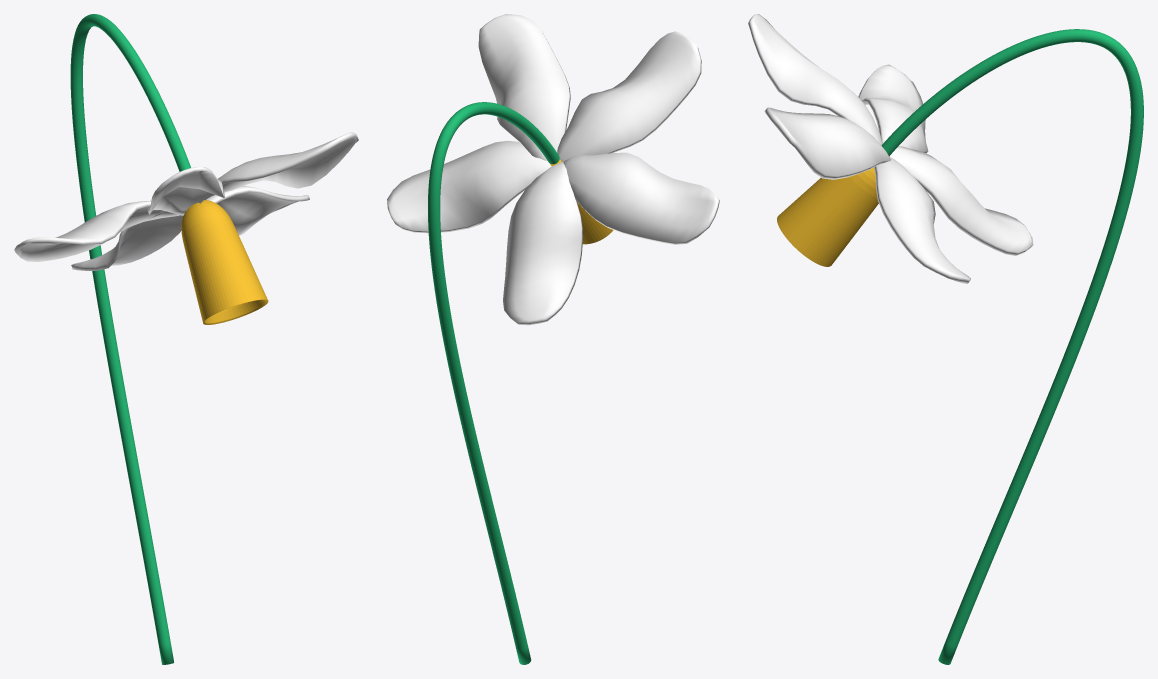
The model's file is Dandofill_Harvested.fbx.
3 views of the same model, side by side, from view 1: azimuth 30°, elevation 25°; view 2: azimuth 150°, elevation 25°; view 3: azimuth 270°, elevation 25° (orthographic). The views are drawn at different scales.
Parts seen in each view (by area): view 1: Narciss_United.001; view 2: Narciss_United.001; view 3: Narciss_United.001.
Boxes of the visible parts, box(x1,y1,x2,y2) form: Narciss_United.001: box(14, 14, 358, 664); Narciss_United.001: box(387, 14, 719, 664); Narciss_United.001: box(748, 14, 1143, 664).
Bounding box in the file's own units: 23.02 × 43.22 × 24.47.
